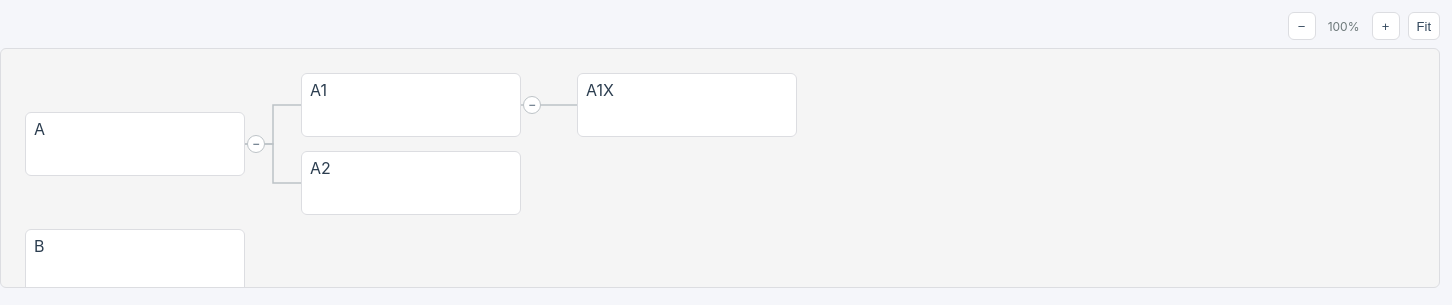
Test case: the tree diagram › zooms from its buttons
Click the button named "Zoom in".
click(1386, 26)  # box 1372,12 -> 1400,40
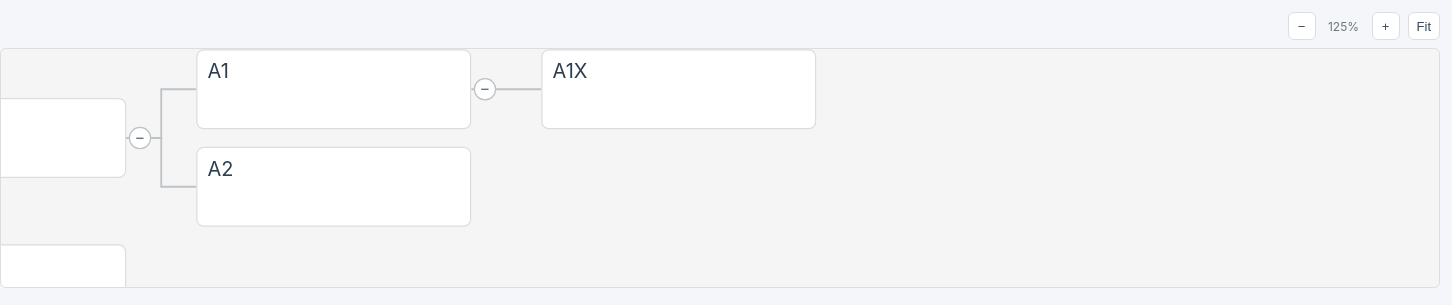
Result: the text "125%" is shown at 1328,18 -> 1359,34
